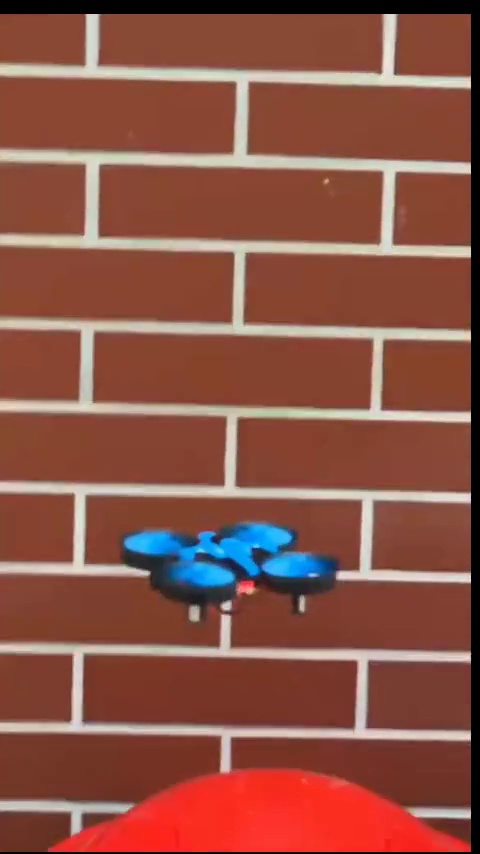drone: (127, 518, 345, 624)
